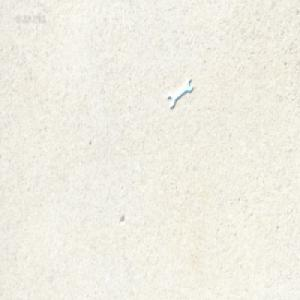Wrench: (168, 79, 192, 108)
